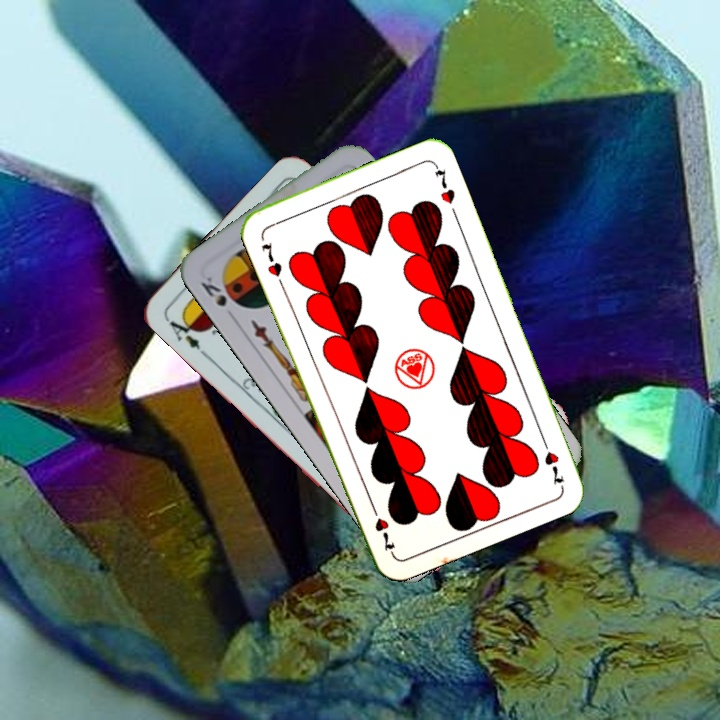EA: (161, 310, 209, 359)
H7: (537, 432, 567, 488), (257, 238, 285, 280)
SK: (196, 272, 230, 310)
